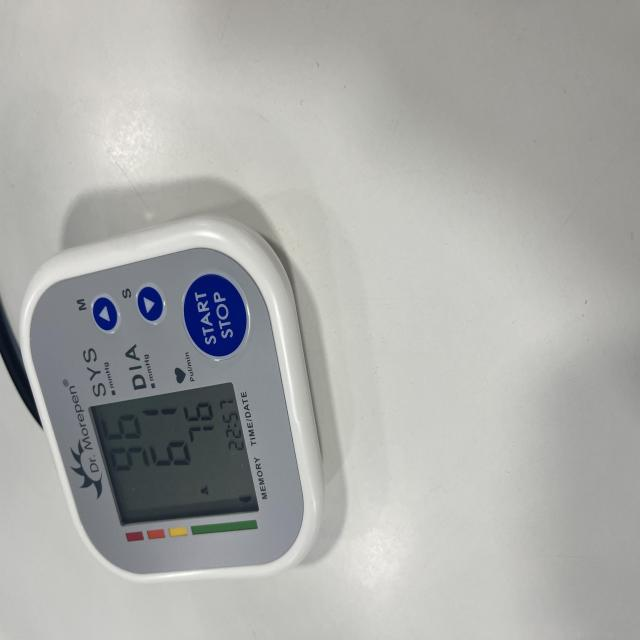bp: (20, 214, 324, 586)
